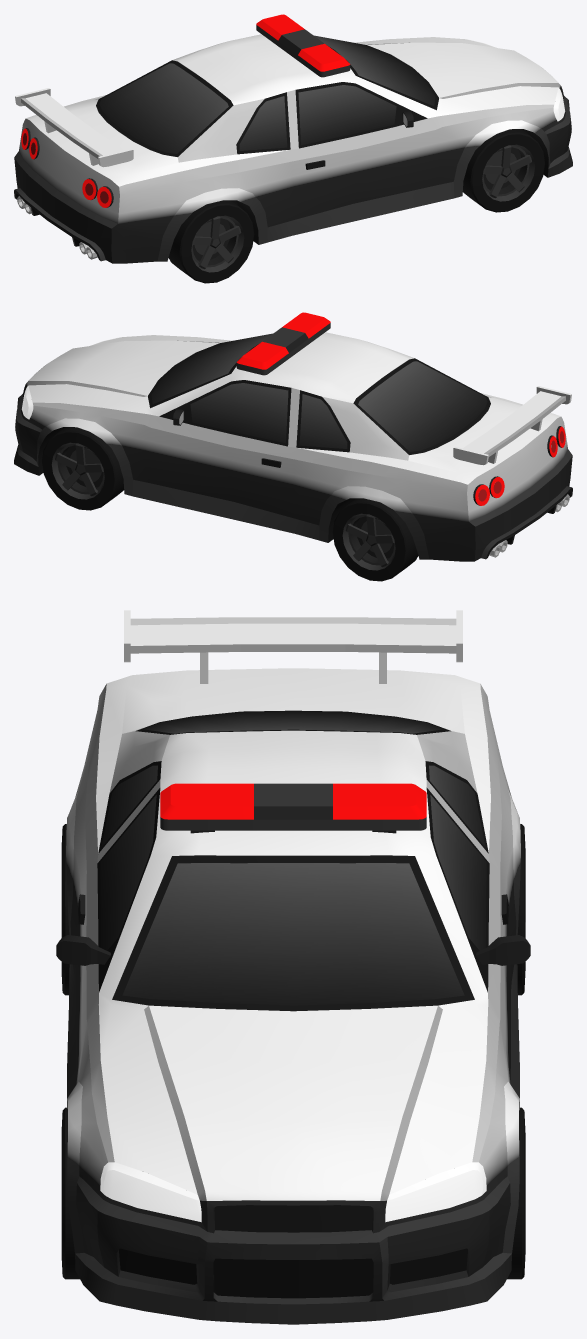
Rendered from Emergency_030.glb.
3 views of the same model, one above another, from view 1: azimuth 30°, elevation 25°; view 2: azimuth 150°, elevation 25°; view 3: azimuth 270°, elevation 25° (orthographic). The views are drawn at different scales.
Parts seen in each view (by area): view 1: Emergency_030, wheel_3_Emergency_030_Wheel_2R, wheel_1_Emergency_030_Wheel_1R; view 2: Emergency_030, wheel_2_Emergency_030_Wheel_2L, wheel_0_Emergency_030_Wheel_1L; view 3: Emergency_030, wheel_1_Emergency_030_Wheel_1R, wheel_0_Emergency_030_Wheel_1L, wheel_3_Emergency_030_Wheel_2R, wheel_2_Emergency_030_Wheel_2L.
Boxes of the visible parts, <box> form: Emergency_030: <box>14,14,572,263</box>; wheel_3_Emergency_030_Wheel_2R: <box>168,200,254,283</box>; wheel_1_Emergency_030_Wheel_1R: <box>462,129,544,212</box>; Emergency_030: <box>14,312,572,561</box>; wheel_2_Emergency_030_Wheel_2L: <box>332,498,418,581</box>; wheel_0_Emergency_030_Wheel_1L: <box>42,427,124,510</box>; Emergency_030: <box>56,610,530,1324</box>; wheel_1_Emergency_030_Wheel_1R: <box>61,1107,79,1279</box>; wheel_0_Emergency_030_Wheel_1L: <box>507,1107,525,1279</box>; wheel_3_Emergency_030_Wheel_2R: <box>61,824,69,995</box>; wheel_2_Emergency_030_Wheel_2L: <box>517,824,525,995</box>.
Bounding box in the file's own units: 4.74 × 1.5 × 1.93.
2 materials, 2 textured.
